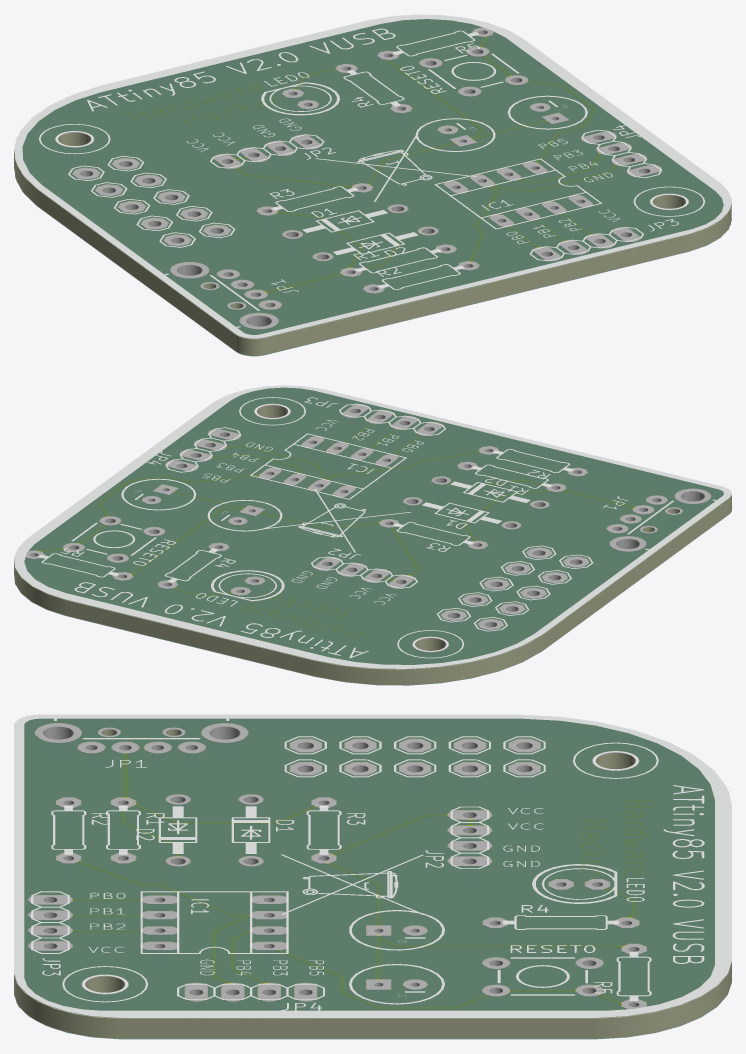
The model's file is bsides20016badge-stm32f0-cortex-m0-led-matrix.glb.
The picture shows the model from 3 angles, top to bottom: view 1: azimuth 30°, elevation 25°; view 2: azimuth 150°, elevation 25°; view 3: azimuth 270°, elevation 25°; orthographic projection. The views are drawn at different scales.
Visible parts, largest first — view 1: =>[0:1:1:6], =>[0:1:1:8], =>[0:1:1:4], =>[0:1:1:2]; view 2: =>[0:1:1:6], =>[0:1:1:8], =>[0:1:1:4], =>[0:1:1:2]; view 3: =>[0:1:1:6], =>[0:1:1:8], =>[0:1:1:4], =>[0:1:1:2].
Part boxes in pixels (<box>): =>[0:1:1:6]: <box>15,19,731,356</box>; =>[0:1:1:8]: <box>14,19,731,355</box>; =>[0:1:1:4]: <box>14,14,731,356</box>; =>[0:1:1:2]: <box>55,28,688,329</box>; =>[0:1:1:6]: <box>14,387,731,685</box>; =>[0:1:1:8]: <box>14,388,731,685</box>; =>[0:1:1:4]: <box>14,385,731,685</box>; =>[0:1:1:2]: <box>25,404,710,652</box>; =>[0:1:1:6]: <box>14,718,731,1039</box>; =>[0:1:1:8]: <box>14,719,731,1038</box>; =>[0:1:1:4]: <box>14,714,731,1039</box>; =>[0:1:1:2]: <box>28,723,651,1009</box>.
Size of the model in its own units: 0.05 by 0.00166 by 0.05.
4 materials, 4 textured.
